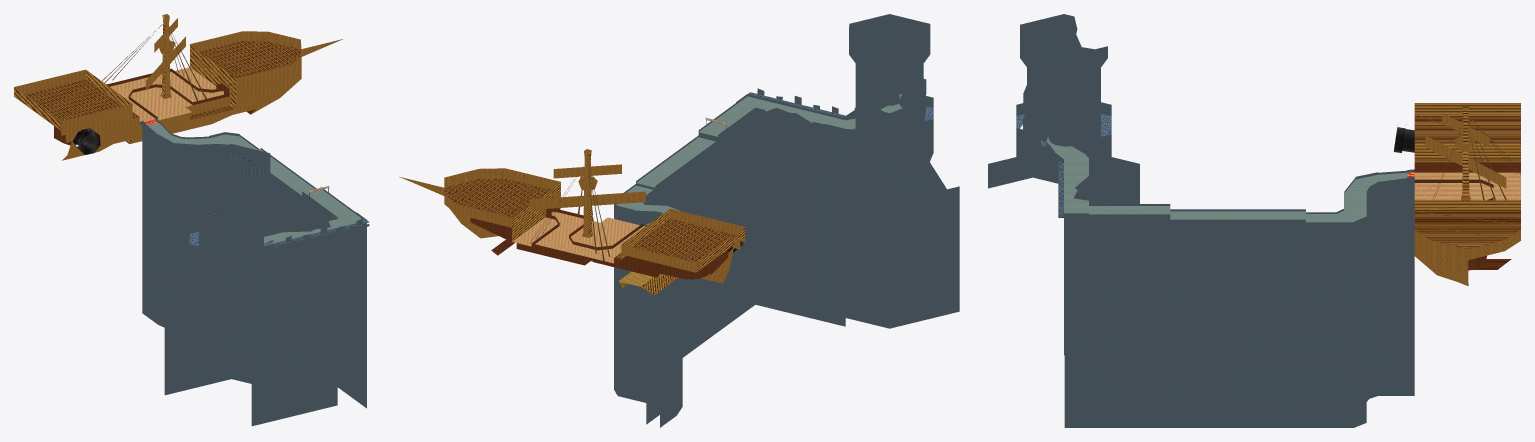
3 views of the same model, side by side, from view 1: azimuth 30°, elevation 25°; view 2: azimuth 150°, elevation 25°; view 3: azimuth 270°, elevation 25° (orthographic). The views are drawn at different scales.
Parts seen in each view (by area): view 1: polygon0.018, polygon10.011, polygon13.011, polygon11.012, polygon1.012, polygon15.010, polygon12.010; view 2: polygon0.018, polygon10.011, polygon11.012, polygon1.012, polygon13.011, polygon12.010; view 3: polygon0.018, polygon10.011, polygon11.012, polygon13.011, polygon1.012.
Part boxes in pixels (bbox=[...]): polygon0.018: bbox=[139, 117, 369, 426]; polygon10.011: bbox=[14, 14, 342, 160]; polygon13.011: bbox=[109, 67, 223, 121]; polygon11.012: bbox=[147, 122, 364, 243]; polygon1.012: bbox=[54, 68, 255, 145]; polygon15.010: bbox=[70, 128, 100, 154]; polygon12.010: bbox=[102, 24, 206, 100]; polygon0.018: bbox=[614, 14, 959, 427]; polygon10.011: bbox=[399, 149, 745, 295]; polygon11.012: bbox=[617, 94, 902, 213]; polygon1.012: bbox=[470, 208, 728, 279]; polygon13.011: bbox=[512, 212, 644, 263]; polygon12.010: bbox=[530, 161, 610, 261]; polygon0.018: bbox=[988, 14, 1414, 427]; polygon10.011: bbox=[1414, 103, 1520, 285]; polygon11.012: bbox=[1046, 136, 1407, 222]; polygon13.011: bbox=[1414, 172, 1520, 200]; polygon1.012: bbox=[1414, 163, 1520, 270].
Size of the model in its own units: 90644 by 67588 by 102825.
10 materials, 10 textured.
